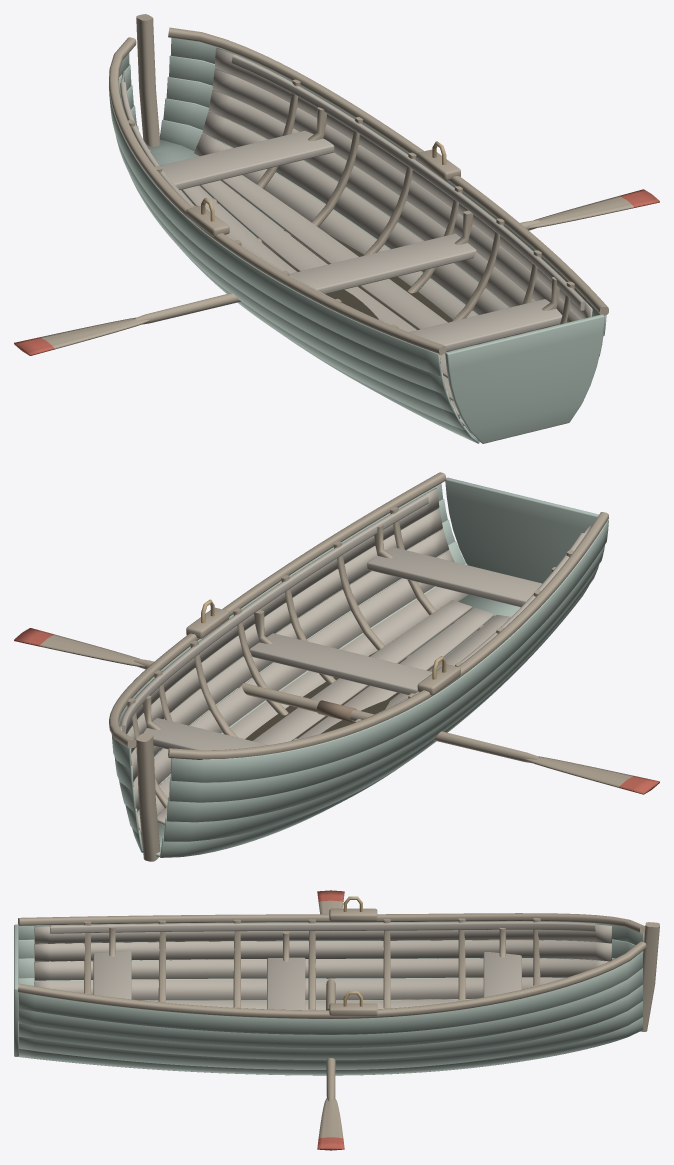
File: rowboat.glb
3 renders of one model, top to bottom at view 1: azimuth 30°, elevation 25°; view 2: azimuth 150°, elevation 25°; view 3: azimuth 270°, elevation 25°, orthographic. The views are drawn at different scales.
Parts seen in each view (by area): view 1: Hull, OarL, OarR; view 2: Hull, OarL, OarR; view 3: Hull, OarR, OarL.
Boxes of the visible parts, <box> form: Hull: <box>109,14,608,443</box>; OarL: <box>14,293,240,355</box>; OarR: <box>520,189,659,230</box>; Hull: <box>109,472,608,861</box>; OarL: <box>317,700,659,794</box>; OarR: <box>14,628,353,721</box>; Hull: <box>14,896,659,1075</box>; OarR: <box>317,1058,344,1150</box>; OarL: <box>317,890,344,1010</box>.
Size of the model in its own units: 3.8 by 0.8716 by 4.03.
